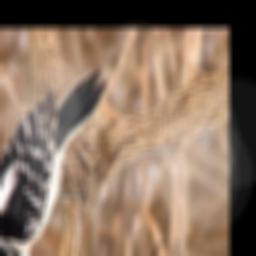Woodpecker: (0, 63, 109, 256)
